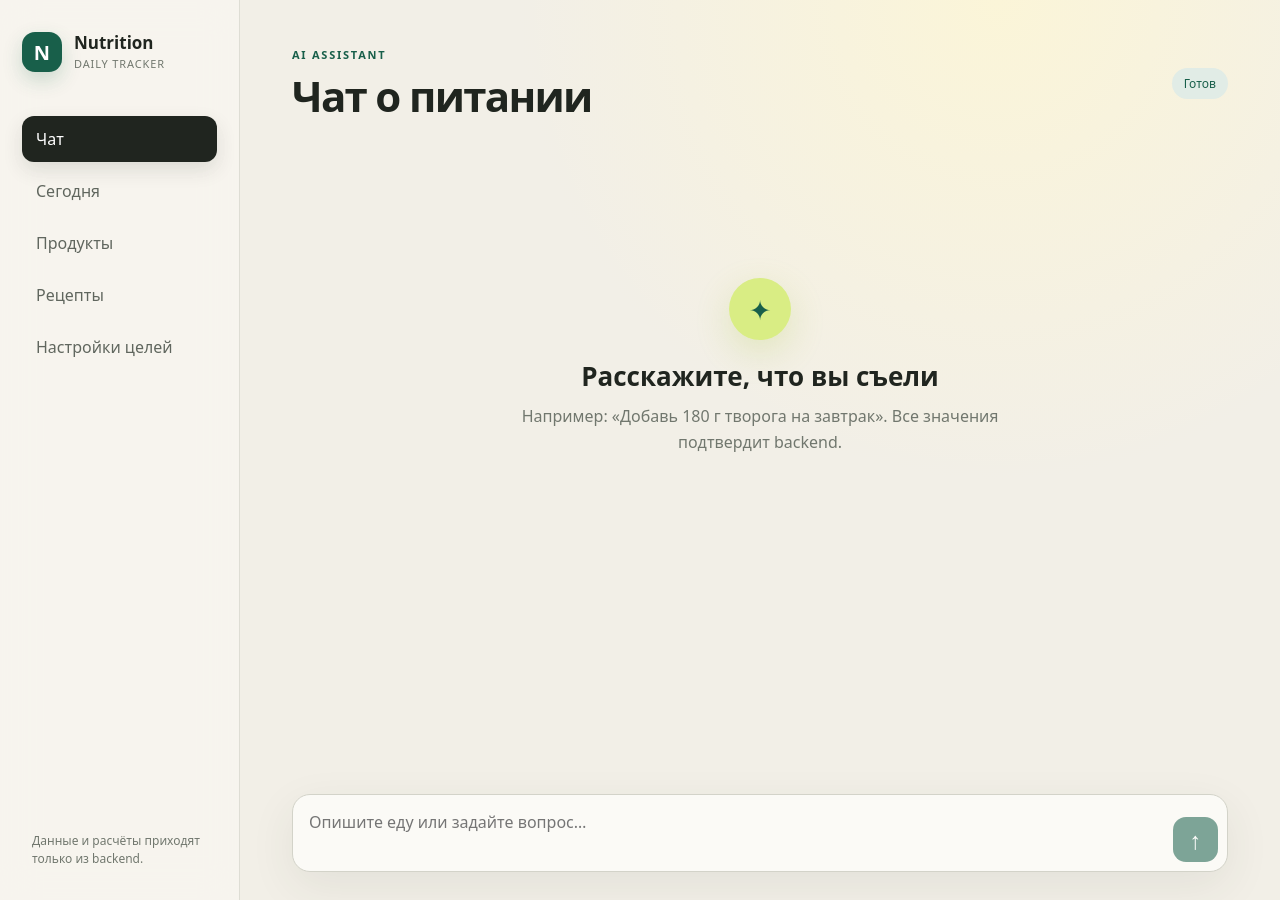
it: основные пользовательские сценарии › защищает чат от повторной отправки, показывает actions и подтверждает изменение
The image size is (1280, 900).
Type "Измени творог" into the text box named "Сообщение".
click(736, 833); type("Измени творог")  # box left=309, top=804, right=1163, bottom=862
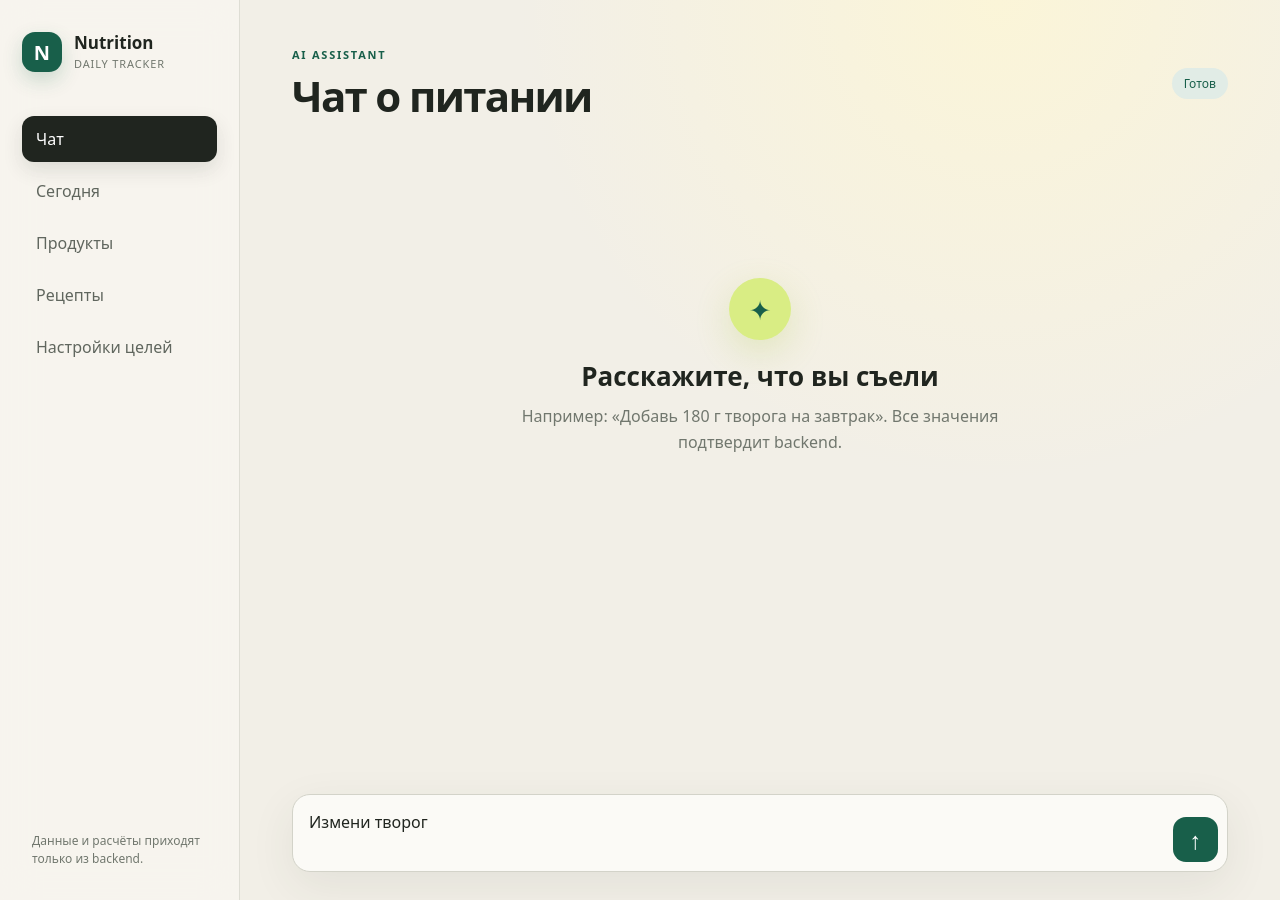
Click the button named "Отправить сообщение".
click(1196, 840)  # box left=1173, top=817, right=1218, bottom=862
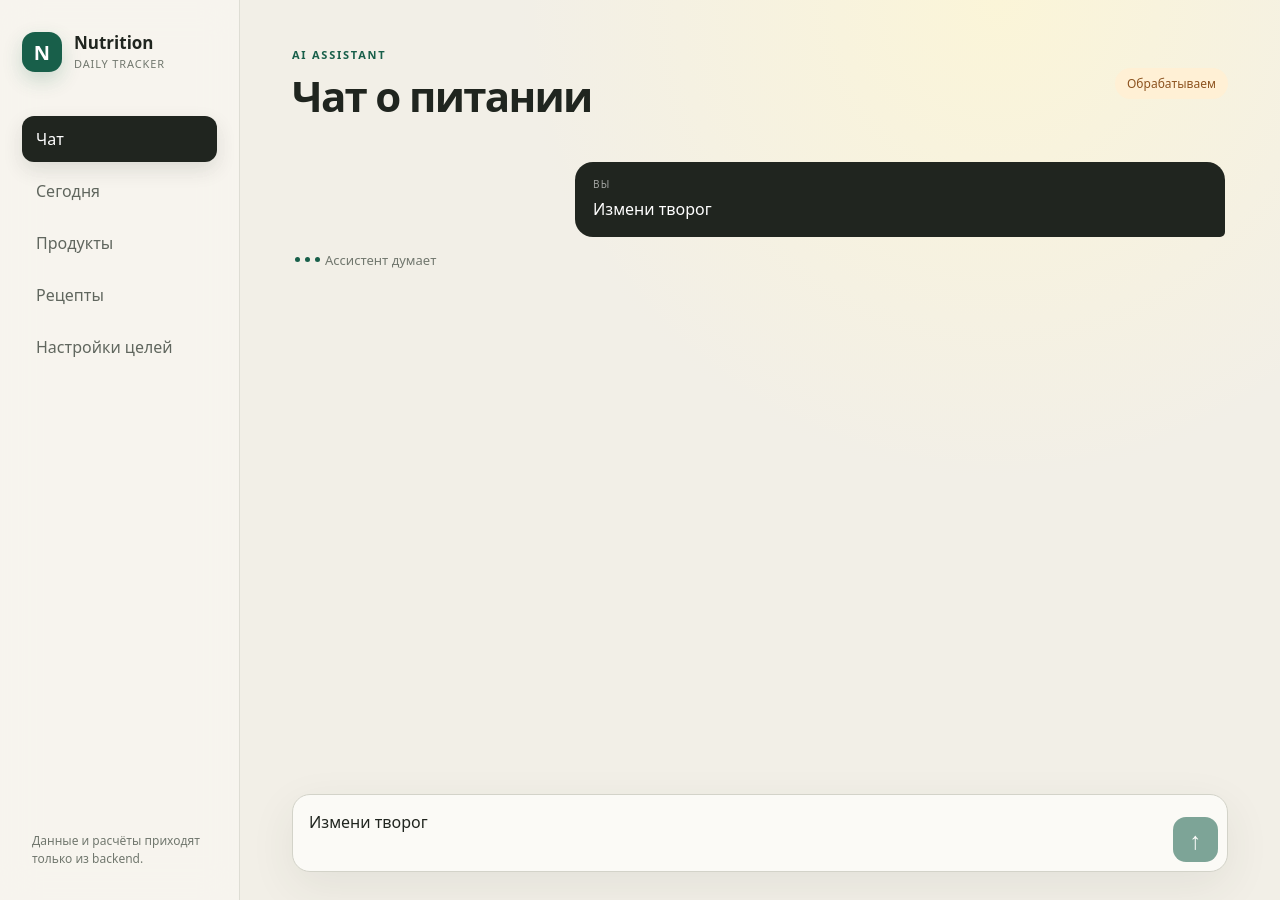
Click the button named "Отправить сообщение".
click(1196, 840)  # box left=1173, top=817, right=1218, bottom=862
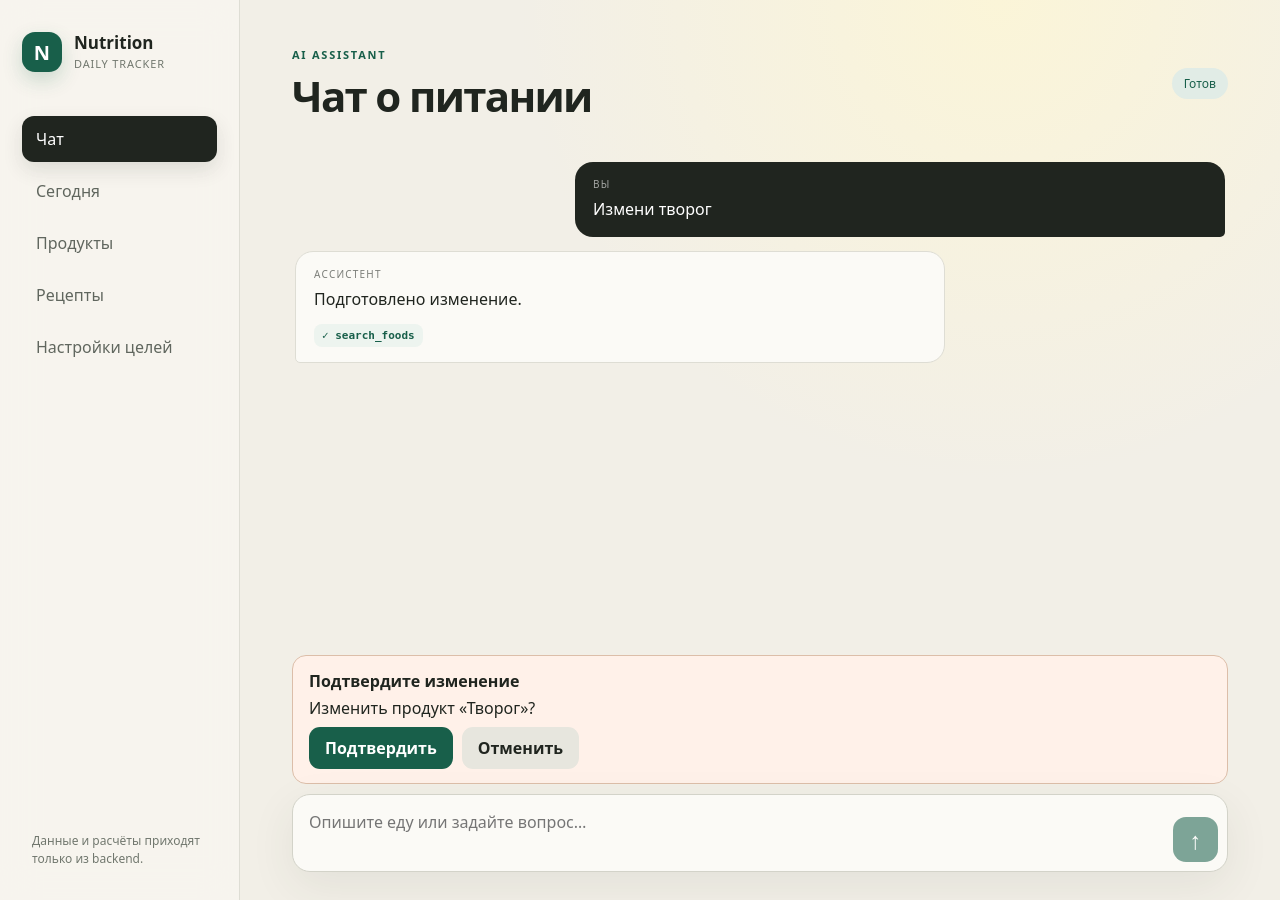
Check: the text "✓ search_foods" is shown, box left=314, top=324, right=423, bottom=347
Click the button "Подтвердить".
click(381, 748)  # box left=309, top=727, right=453, bottom=769
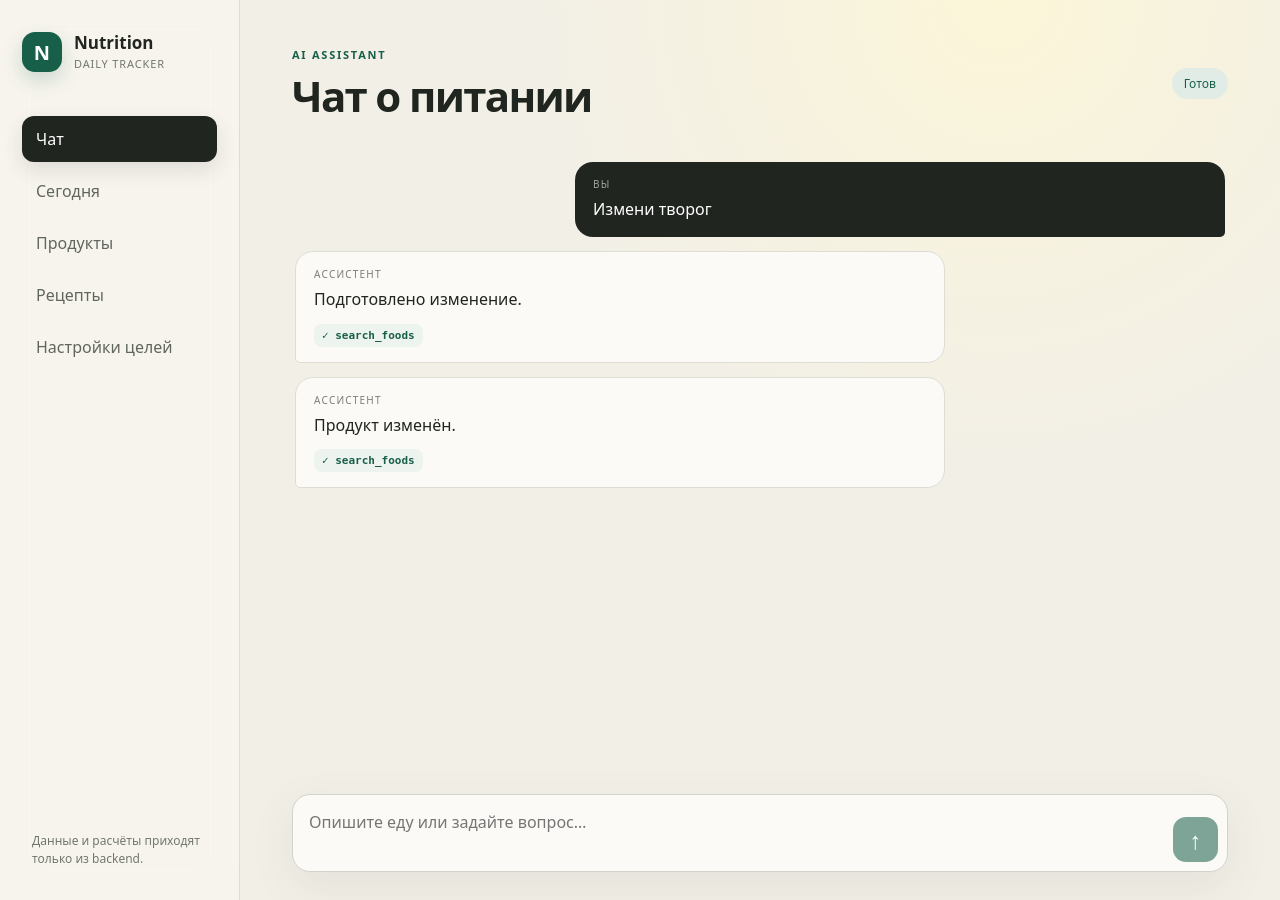
Check: the text "Продукт изменён." is shown, box left=314, top=414, right=456, bottom=436
